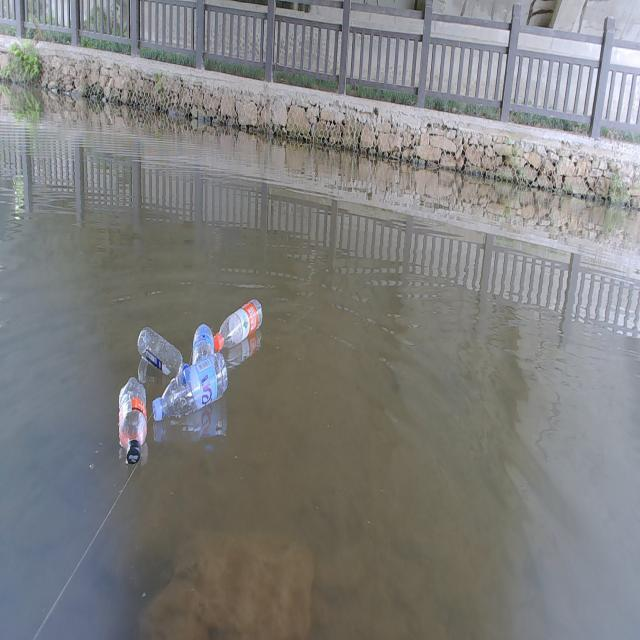bottle: (147, 349, 234, 425), (115, 372, 152, 470), (134, 324, 190, 381), (213, 298, 266, 349), (189, 319, 216, 364)
